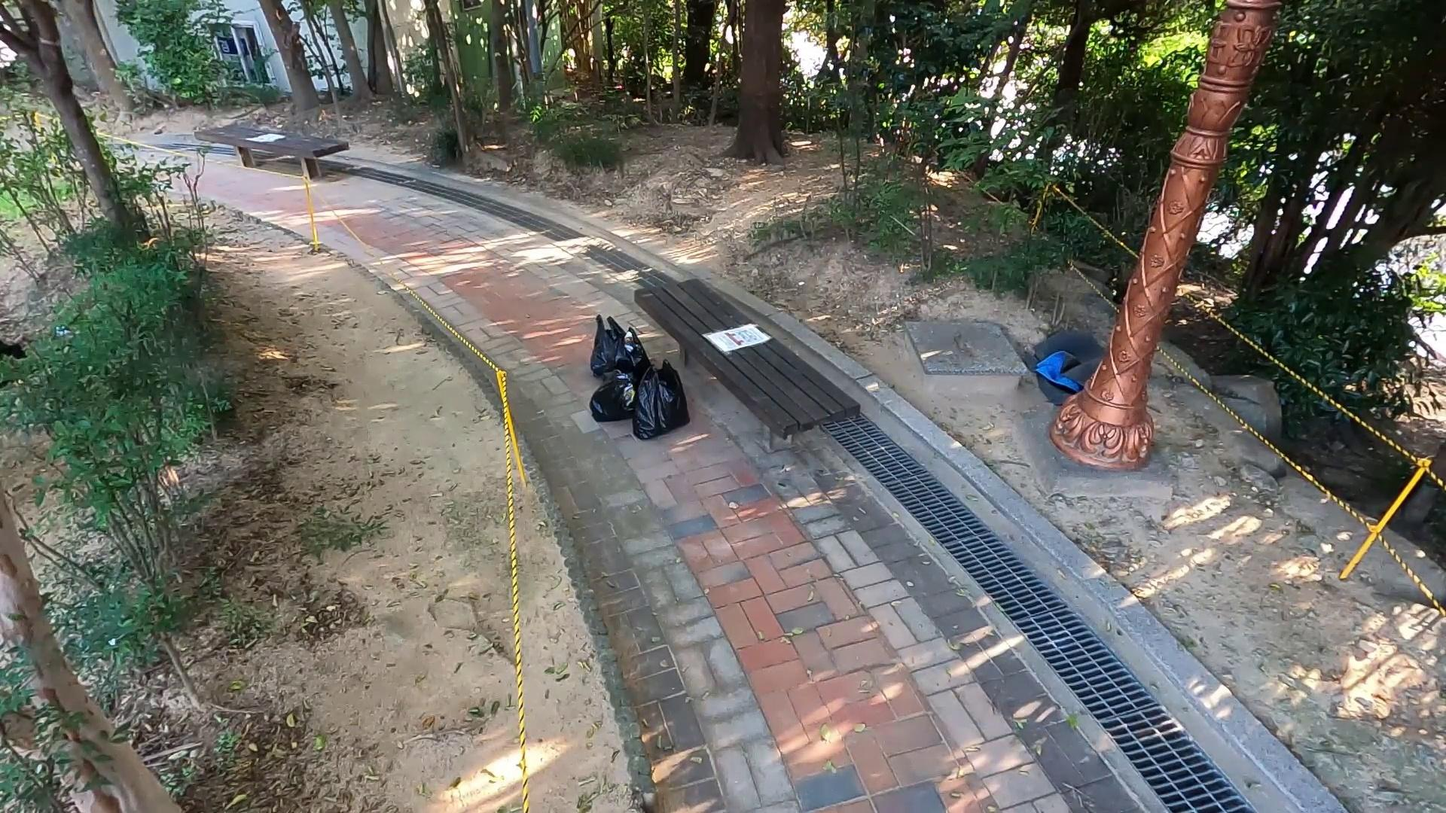trash: (1032, 320, 1111, 405), (635, 360, 690, 440), (589, 367, 642, 431), (607, 326, 658, 392), (588, 313, 635, 375)
